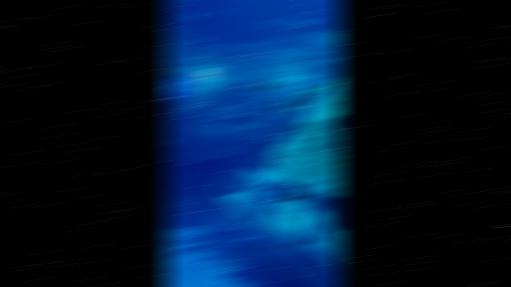Fish: (279, 81, 330, 113), (324, 199, 343, 231), (277, 17, 322, 29), (281, 183, 308, 202), (163, 84, 182, 100), (228, 182, 255, 193), (253, 82, 280, 93), (326, 117, 343, 133), (292, 122, 307, 134), (258, 142, 279, 150), (308, 232, 323, 243), (263, 245, 280, 254), (174, 110, 187, 121), (260, 21, 275, 28), (263, 103, 280, 108), (173, 45, 186, 51), (179, 18, 192, 23), (182, 12, 195, 17), (252, 157, 267, 161), (296, 11, 307, 16), (164, 140, 177, 144), (180, 0, 195, 3), (267, 75, 278, 79), (189, 16, 199, 20), (217, 11, 227, 15), (258, 119, 266, 123), (196, 38, 207, 40)
